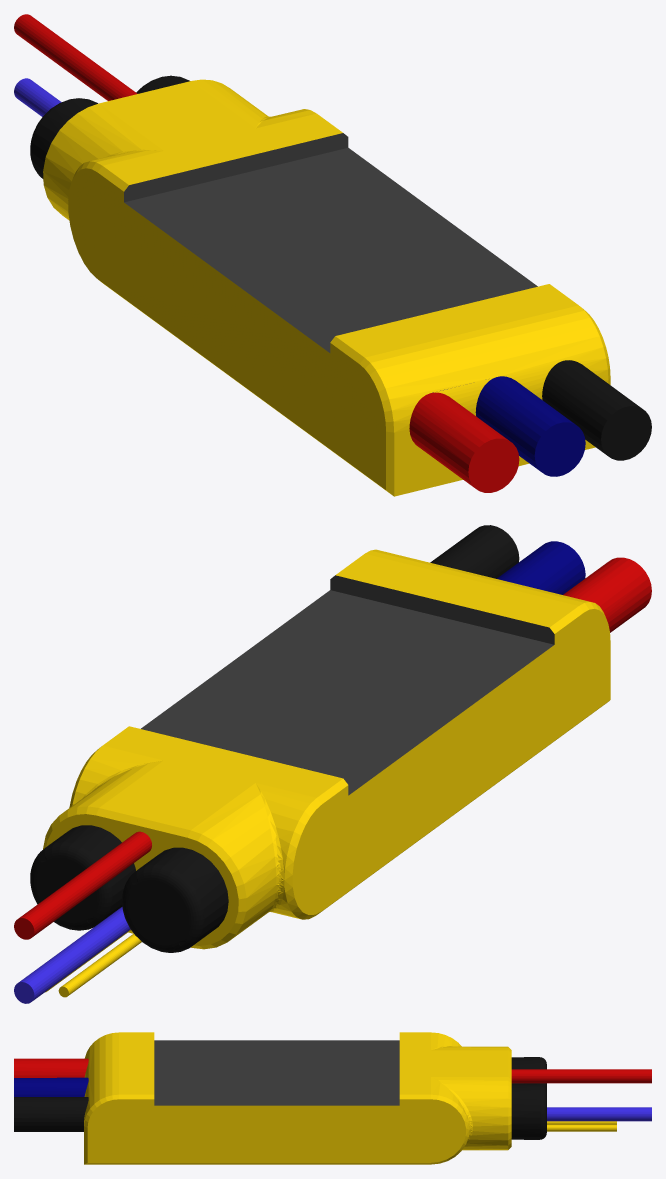
File: esc.glb
3 renders of one model, top to bottom at view 1: azimuth 30°, elevation 25°; view 2: azimuth 150°, elevation 25°; view 3: azimuth 270°, elevation 25°, orthographic. The views are drawn at different scales.
Visible parts, largest first — view 1: esc_01; view 2: esc_01; view 3: esc_01.
Part boxes in pixels (box(x1,y1,x2,y2)): esc_01: box(14, 14, 651, 496); esc_01: box(14, 525, 651, 1003); esc_01: box(14, 1032, 651, 1164).
Bounding box in the file's own units: 22 × 11 × 91.
